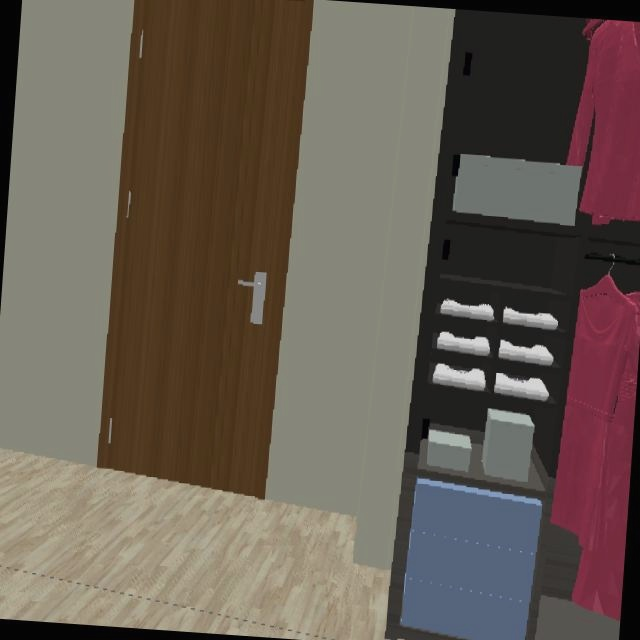wardrobe: (385, 9, 640, 640)
